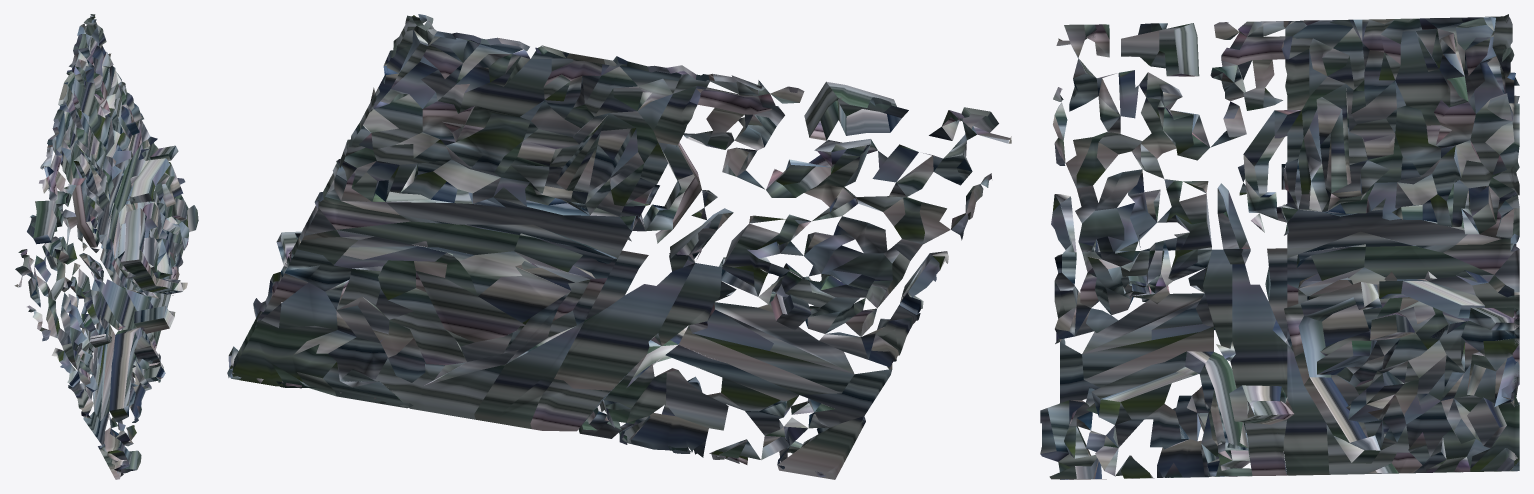
3 views of the same model, side by side, from view 1: azimuth 30°, elevation 25°; view 2: azimuth 150°, elevation 25°; view 3: azimuth 270°, elevation 25° (orthographic). The views are drawn at different scales.
Visible parts, largest first — view 1: node_3043627270436150_mesh0, node_3043627270436150_mesh1; view 2: node_3043627270436150_mesh0, node_3043627270436150_mesh1; view 3: node_3043627270436150_mesh0, node_3043627270436150_mesh1.
Boxes of the visible parts, left/top/right/bottom form: node_3043627270436150_mesh0: left=14, top=14, right=198, bottom=479; node_3043627270436150_mesh1: left=15, top=23, right=188, bottom=470; node_3043627270436150_mesh0: left=227, top=14, right=1011, bottom=479; node_3043627270436150_mesh1: left=228, top=25, right=998, bottom=463; node_3043627270436150_mesh0: left=1040, top=14, right=1519, bottom=479; node_3043627270436150_mesh1: left=1040, top=18, right=1519, bottom=478.
Bounding box in the file's own units: 577 × 587 × 461.
Materials: 2 (2 with a texture image).
